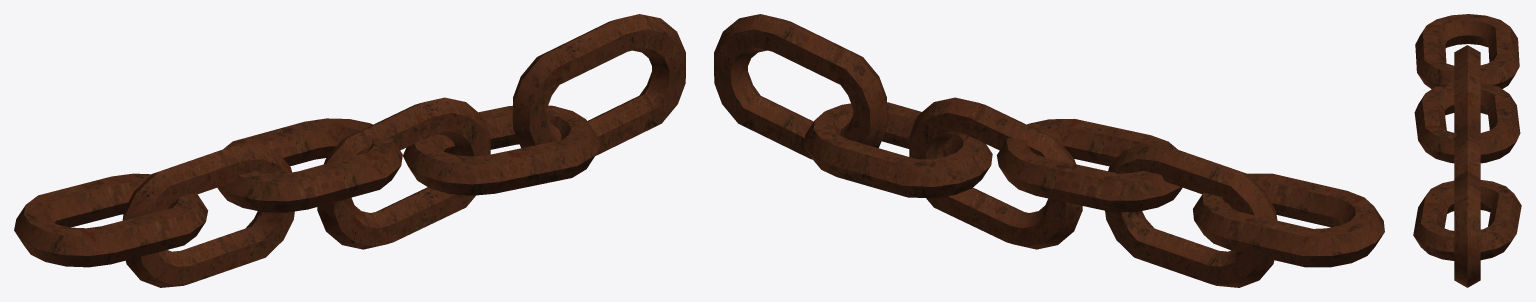
The model's file is chain_1.glb.
3 renders of one model, left to right at view 1: azimuth 30°, elevation 25°; view 2: azimuth 150°, elevation 25°; view 3: azimuth 270°, elevation 25°, orthographic. The views are drawn at different scales.
Parts seen in each view (by area): view 1: chain_1; view 2: chain_1; view 3: chain_1.
Part boxes in pixels (bbox=[...]): chain_1: bbox=[14, 14, 685, 287]; chain_1: bbox=[714, 14, 1384, 287]; chain_1: bbox=[1413, 14, 1521, 287].
Size of the model in its own units: 0.2335 by 0.0569 by 0.0432.
Materials: 1 (1 with a texture image).
